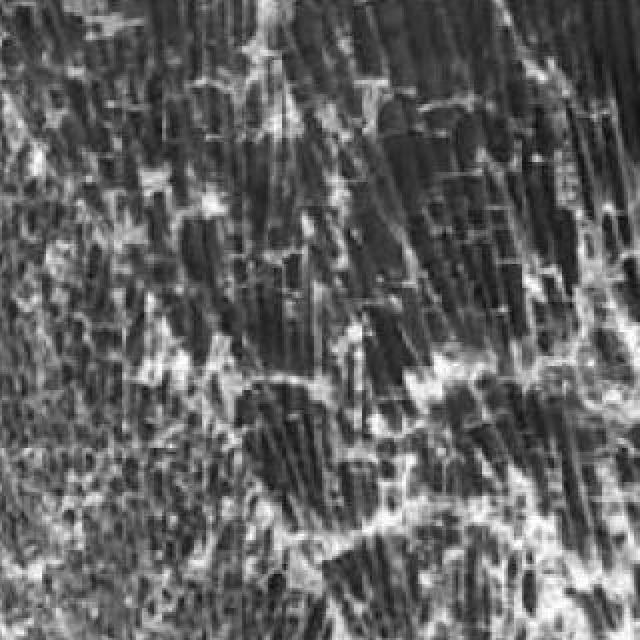Physical-damage: (2, 0, 640, 640)
